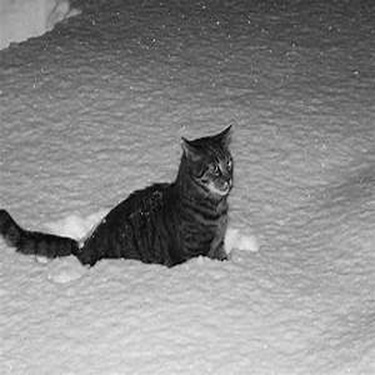cat: (5, 119, 233, 267)
